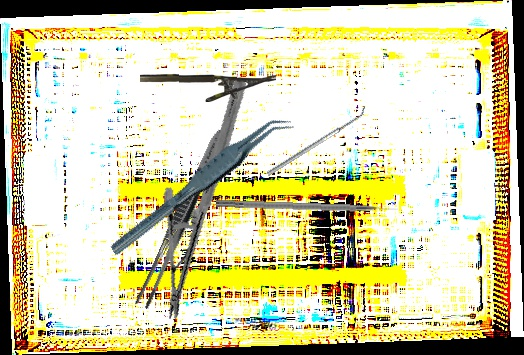Dressing Forceps: (133, 126, 230, 311)
Hook Surgical: (215, 199, 399, 216)
Needle Holder: (119, 77, 294, 321), (139, 72, 277, 104)
Spatula Surgical: (264, 105, 369, 177)
Tissue Forceps: (96, 111, 305, 257)
